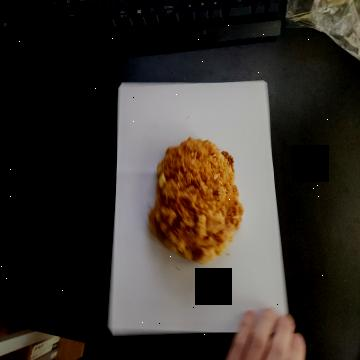soboru_bread: (146, 136, 247, 259)
